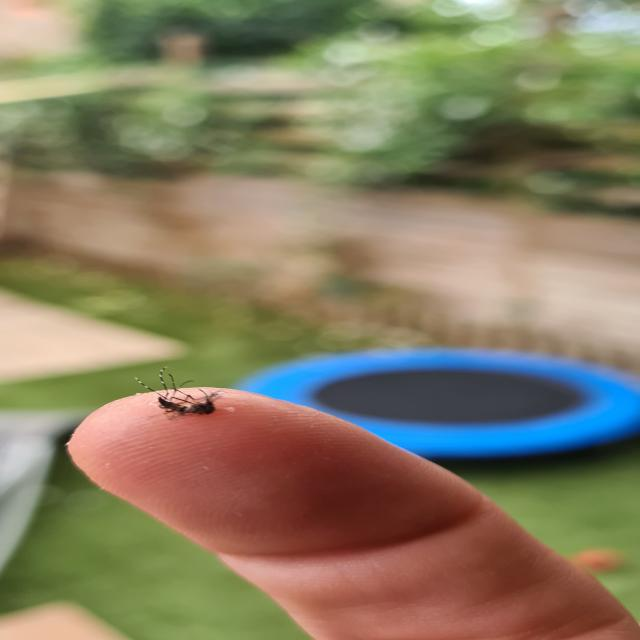albopictus: (126, 368, 219, 421)
